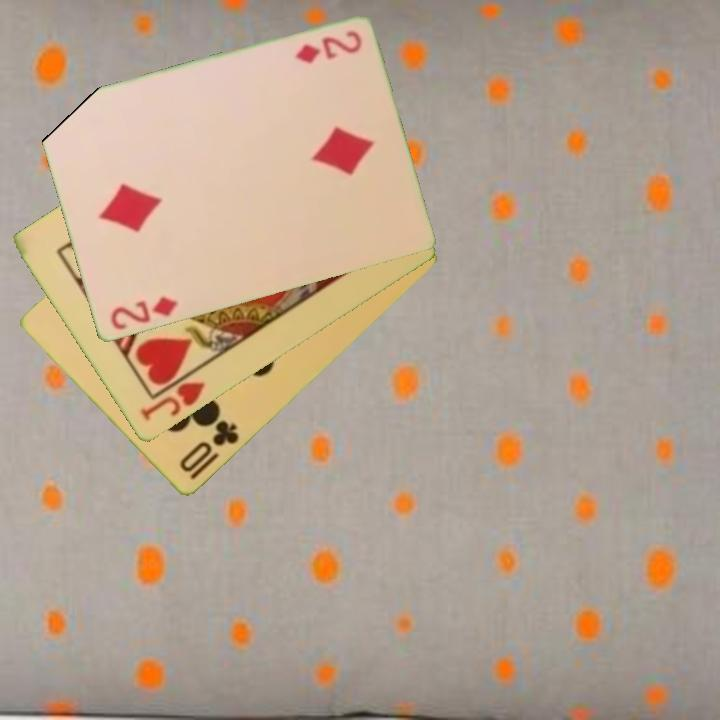10c: (176, 417, 242, 483)
2d: (106, 293, 181, 333), (290, 27, 365, 67)
Jh: (136, 379, 208, 425)
